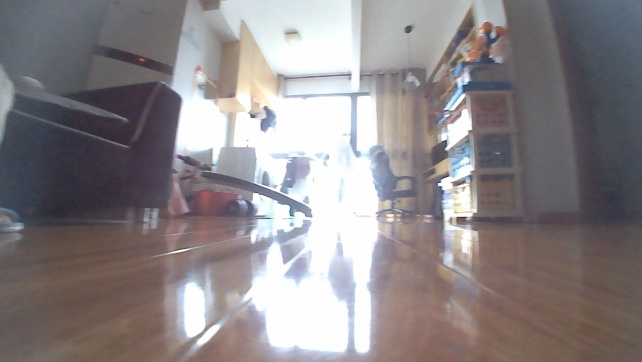sofa1: (0, 71, 185, 223)
